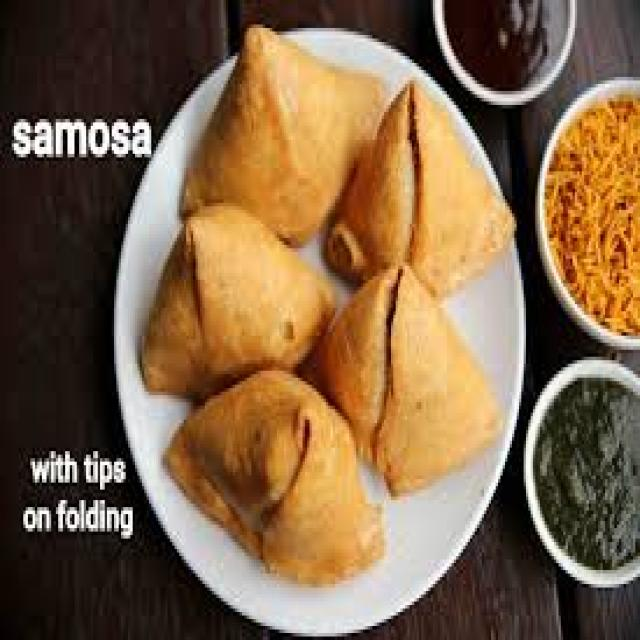SAMOSA: (161, 378, 389, 592), (173, 22, 391, 240), (309, 275, 502, 488), (327, 75, 511, 293), (135, 208, 333, 410)
